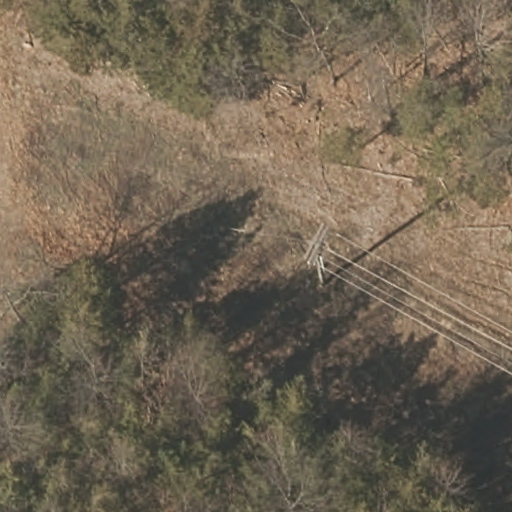DT: (305, 221, 330, 272)
